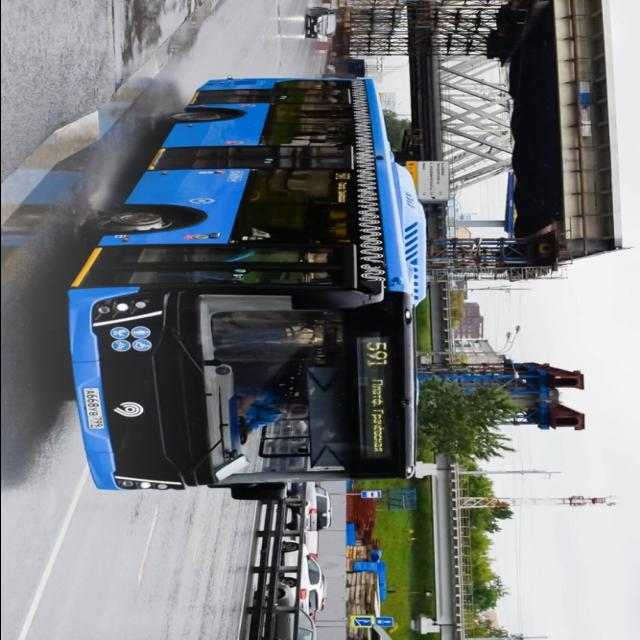bus: (65, 76, 433, 496)
